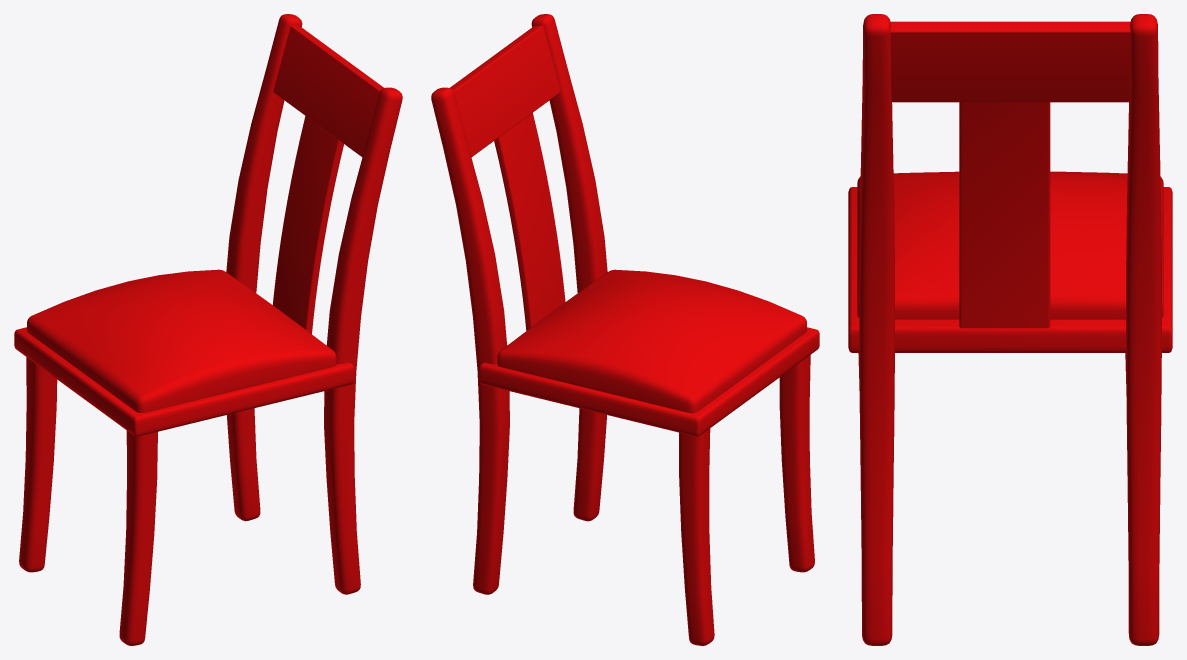
File: Cahir.fbx
3 views of the same model, side by side, from view 1: azimuth 30°, elevation 25°; view 2: azimuth 150°, elevation 25°; view 3: azimuth 270°, elevation 25° (orthographic). The views are drawn at different scales.
Visible parts, largest first — view 1: diningChair; view 2: diningChair; view 3: diningChair.
Boxes of the visible parts, <box> form: diningChair: <box>14,14,402,645</box>; diningChair: <box>431,14,819,645</box>; diningChair: <box>848,14,1172,645</box>.
Size of the model in its own units: 90.46 by 153 by 68.91.
